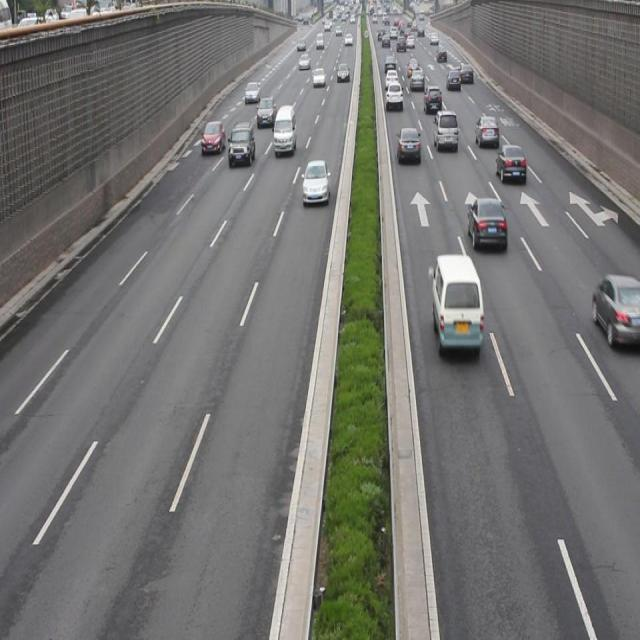car: (591, 272, 640, 347), (468, 196, 506, 251), (228, 121, 254, 168), (302, 158, 328, 202), (494, 143, 524, 181), (433, 109, 458, 152), (396, 126, 420, 164), (200, 119, 224, 154), (475, 114, 497, 149)
truck: (430, 253, 481, 349), (272, 104, 295, 156)
